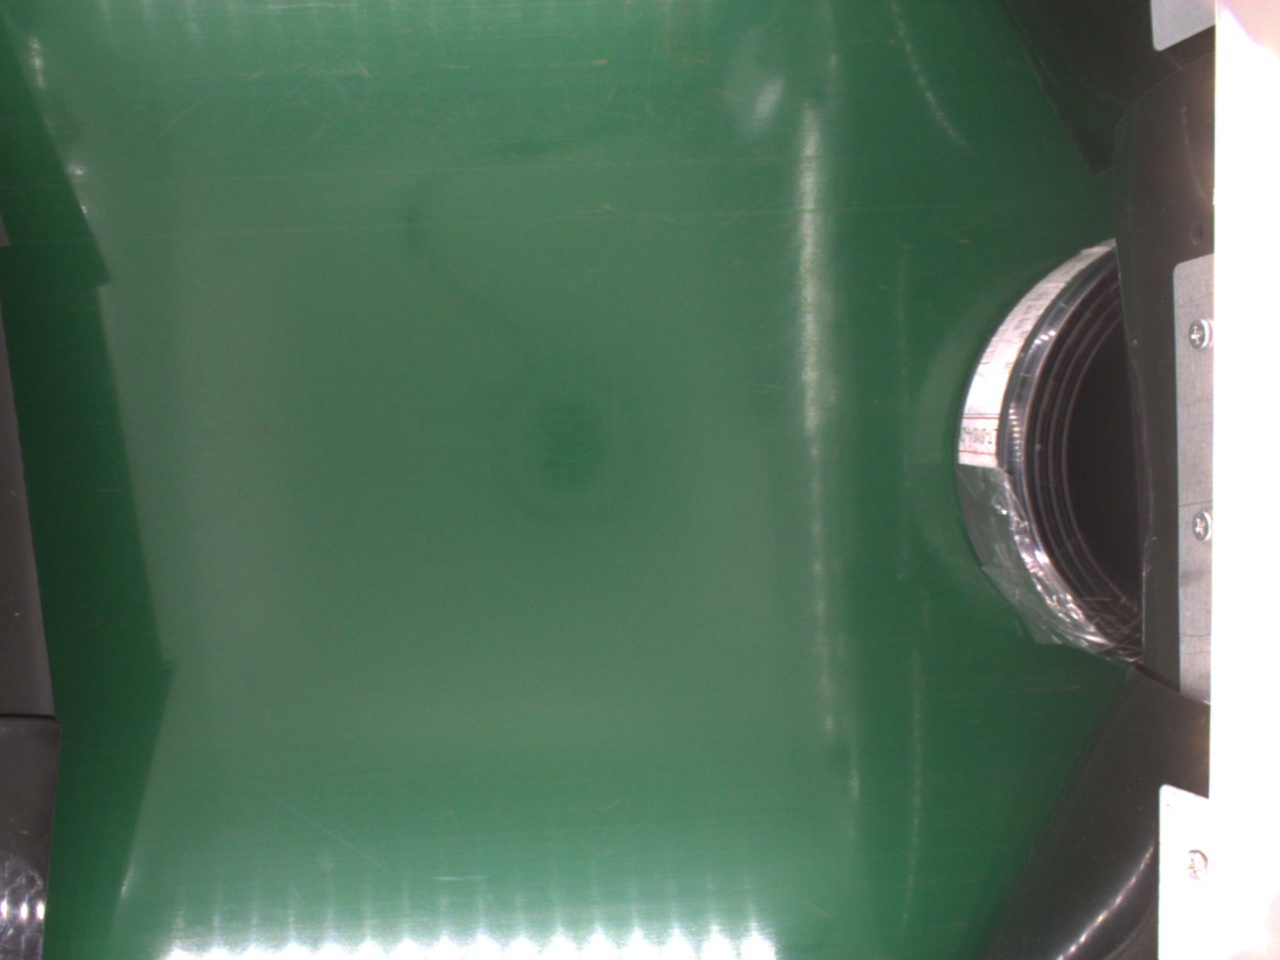black: (958, 238, 1150, 670)
